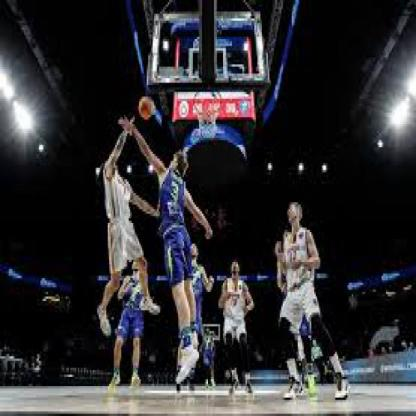basketball: (140, 96, 152, 120)
rim: (192, 88, 223, 118)
